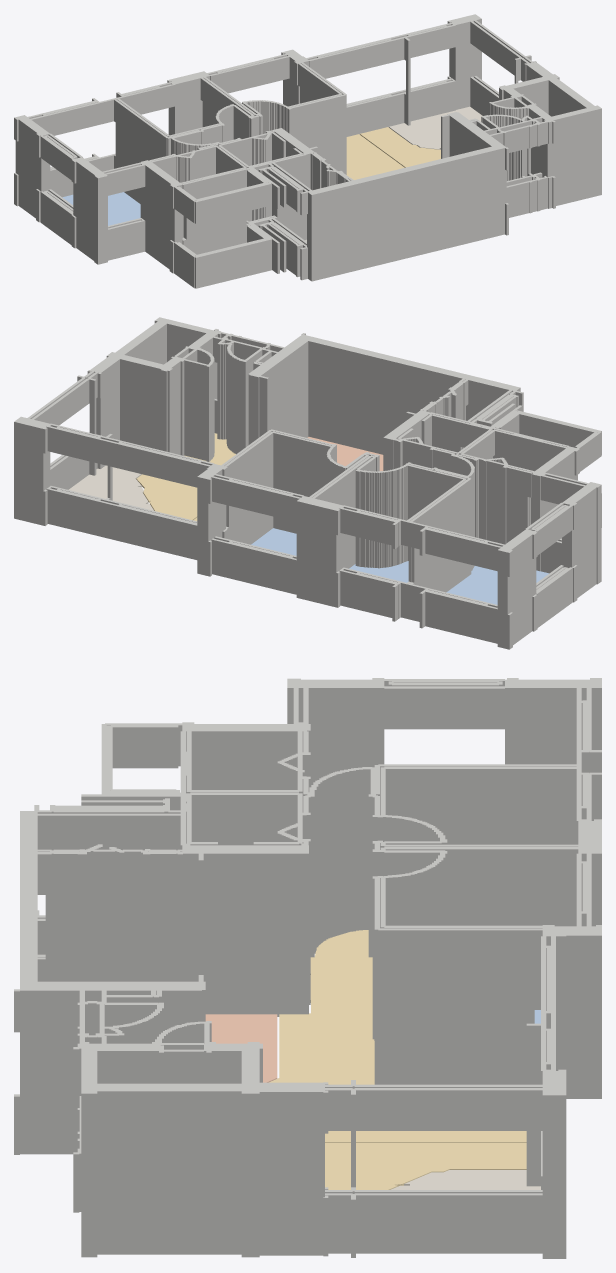
3 renders of one model, top to bottom at view 1: azimuth 30°, elevation 25°; view 2: azimuth 150°, elevation 25°; view 3: azimuth 270°, elevation 25°, orthographic. The views are drawn at different scales.
Visible parts, largest first — view 1: walls, room:living:6, room:living:7, room:other:10, room:bedroom:13; view 2: walls, room:living:7, room:other:10, room:bedroom:13, room:bedroom:11, room:bedroom:12, room:kitchen:0; view 3: walls, room:living:6, room:living:7, room:kitchen:0, room:other:10.
Part boxes in pixels (bbox=[...]): walls: bbox=[14, 14, 601, 288]; room:living:6: bbox=[346, 134, 404, 179]; room:living:7: bbox=[360, 127, 440, 167]; room:other:10: bbox=[389, 106, 482, 149]; room:bedroom:13: bbox=[62, 192, 140, 225]; walls: bbox=[14, 317, 601, 649]; room:living:7: bbox=[136, 433, 235, 520]; room:other:10: bbox=[68, 465, 153, 510]; room:bedroom:13: bbox=[446, 566, 548, 604]; room:bedroom:11: bbox=[251, 528, 296, 555]; room:bedroom:12: bbox=[349, 561, 408, 582]; room:kitchen:0: bbox=[307, 437, 383, 471]; walls: bbox=[14, 678, 601, 1258]; room:living:6: bbox=[269, 930, 526, 1142]; room:living:7: bbox=[325, 1143, 526, 1189]; room:kitchen:0: bbox=[205, 1014, 277, 1082]; room:other:10: bbox=[390, 1170, 540, 1189].
Bounding box in the file's own units: 15.32 × 2.8 × 9.12.
